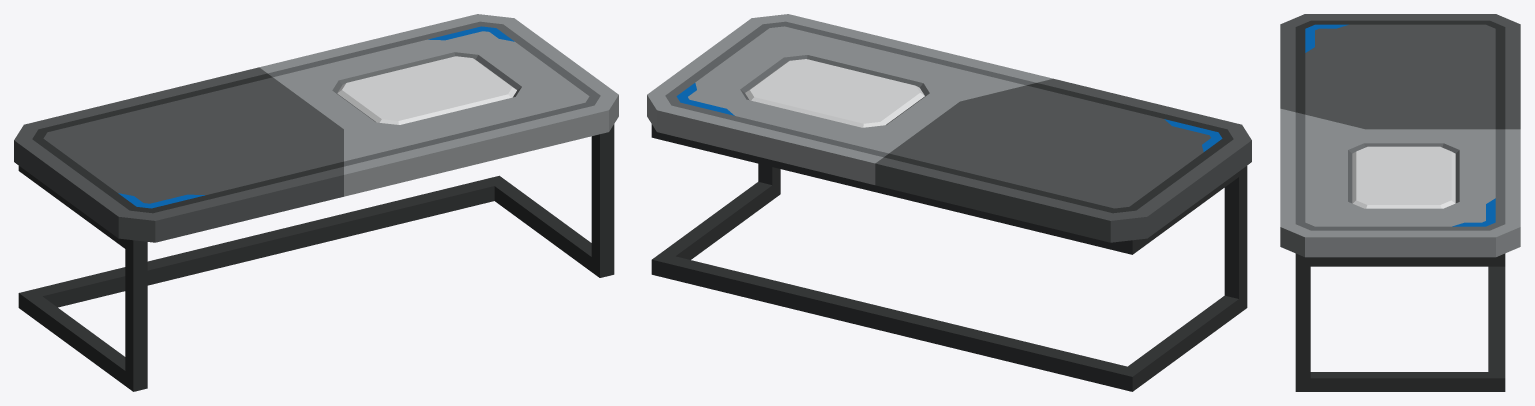
Rendered from Desk_015.fbx.
3 renders of one model, left to right at view 1: azimuth 30°, elevation 25°; view 2: azimuth 150°, elevation 25°; view 3: azimuth 270°, elevation 25°, orthographic. The views are drawn at different scales.
Visible parts, largest first — view 1: Desk_015; view 2: Desk_015; view 3: Desk_015.
Part boxes in pixels (bbox=[...]): Desk_015: bbox=[14, 14, 618, 391]; Desk_015: bbox=[647, 14, 1251, 391]; Desk_015: bbox=[1280, 14, 1520, 391].
Bounding box in the file's own units: 254 × 116 × 84.49.
